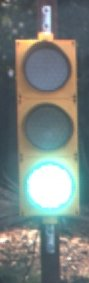Green: (10, 29, 85, 228)
